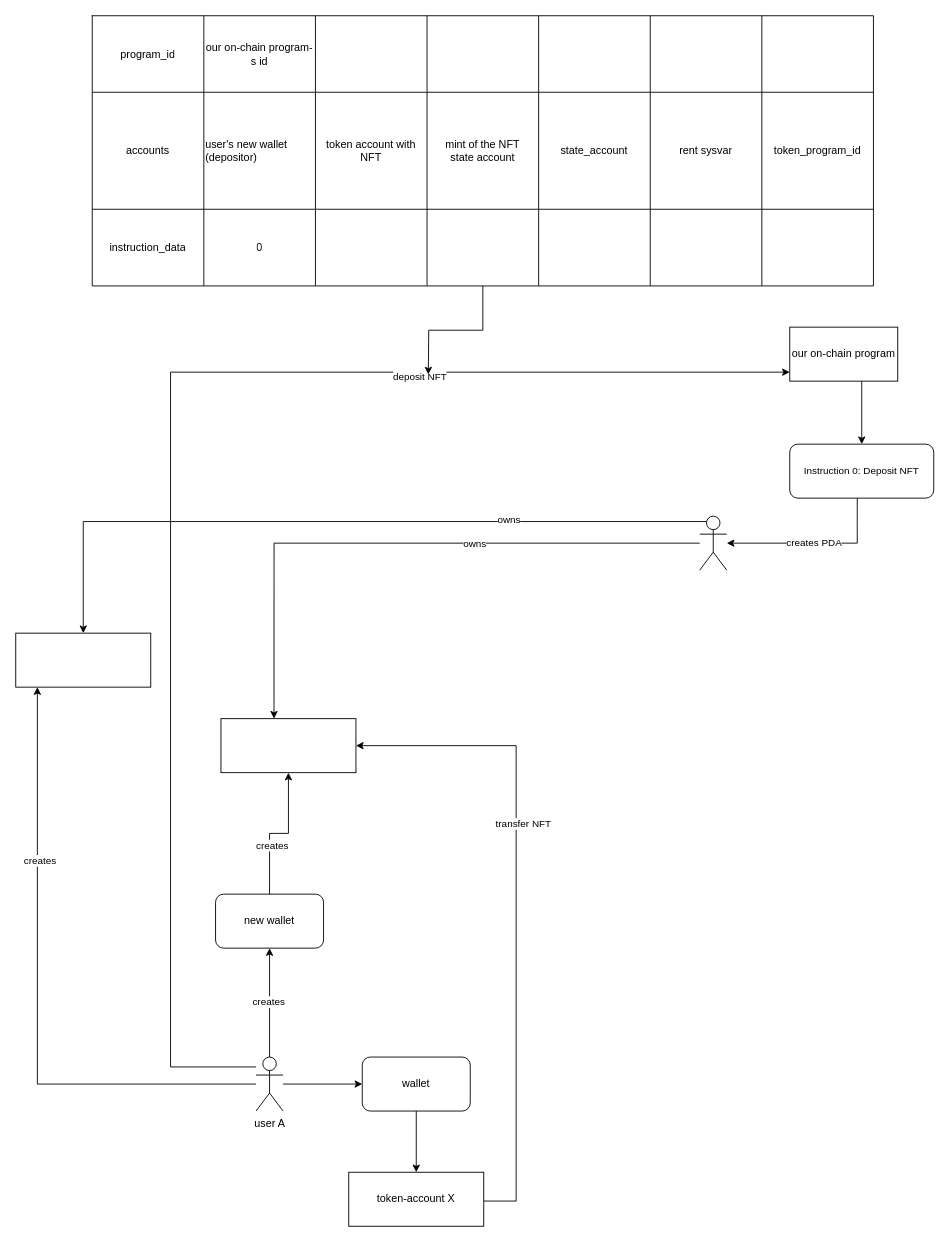
This 950x1242 diagram has some shape labels left out. Each missing label, with the box of its shape:
b456: (699, 515, 727, 570)
new token-account X: (220, 718, 356, 773)
state account: (15, 632, 151, 687)
